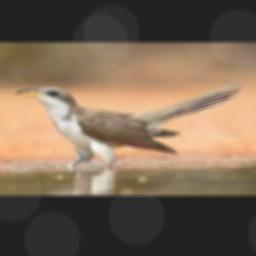Cuckoo: (15, 81, 242, 166)
